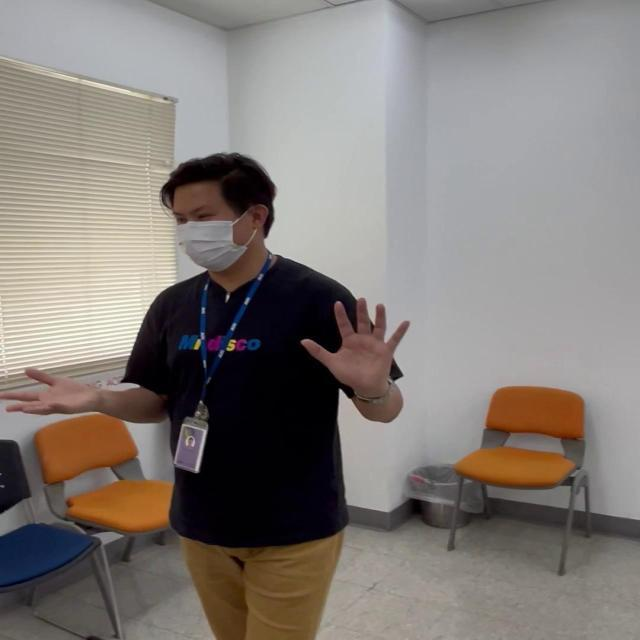bare_hand: (297, 292, 411, 392), (0, 364, 99, 418)
